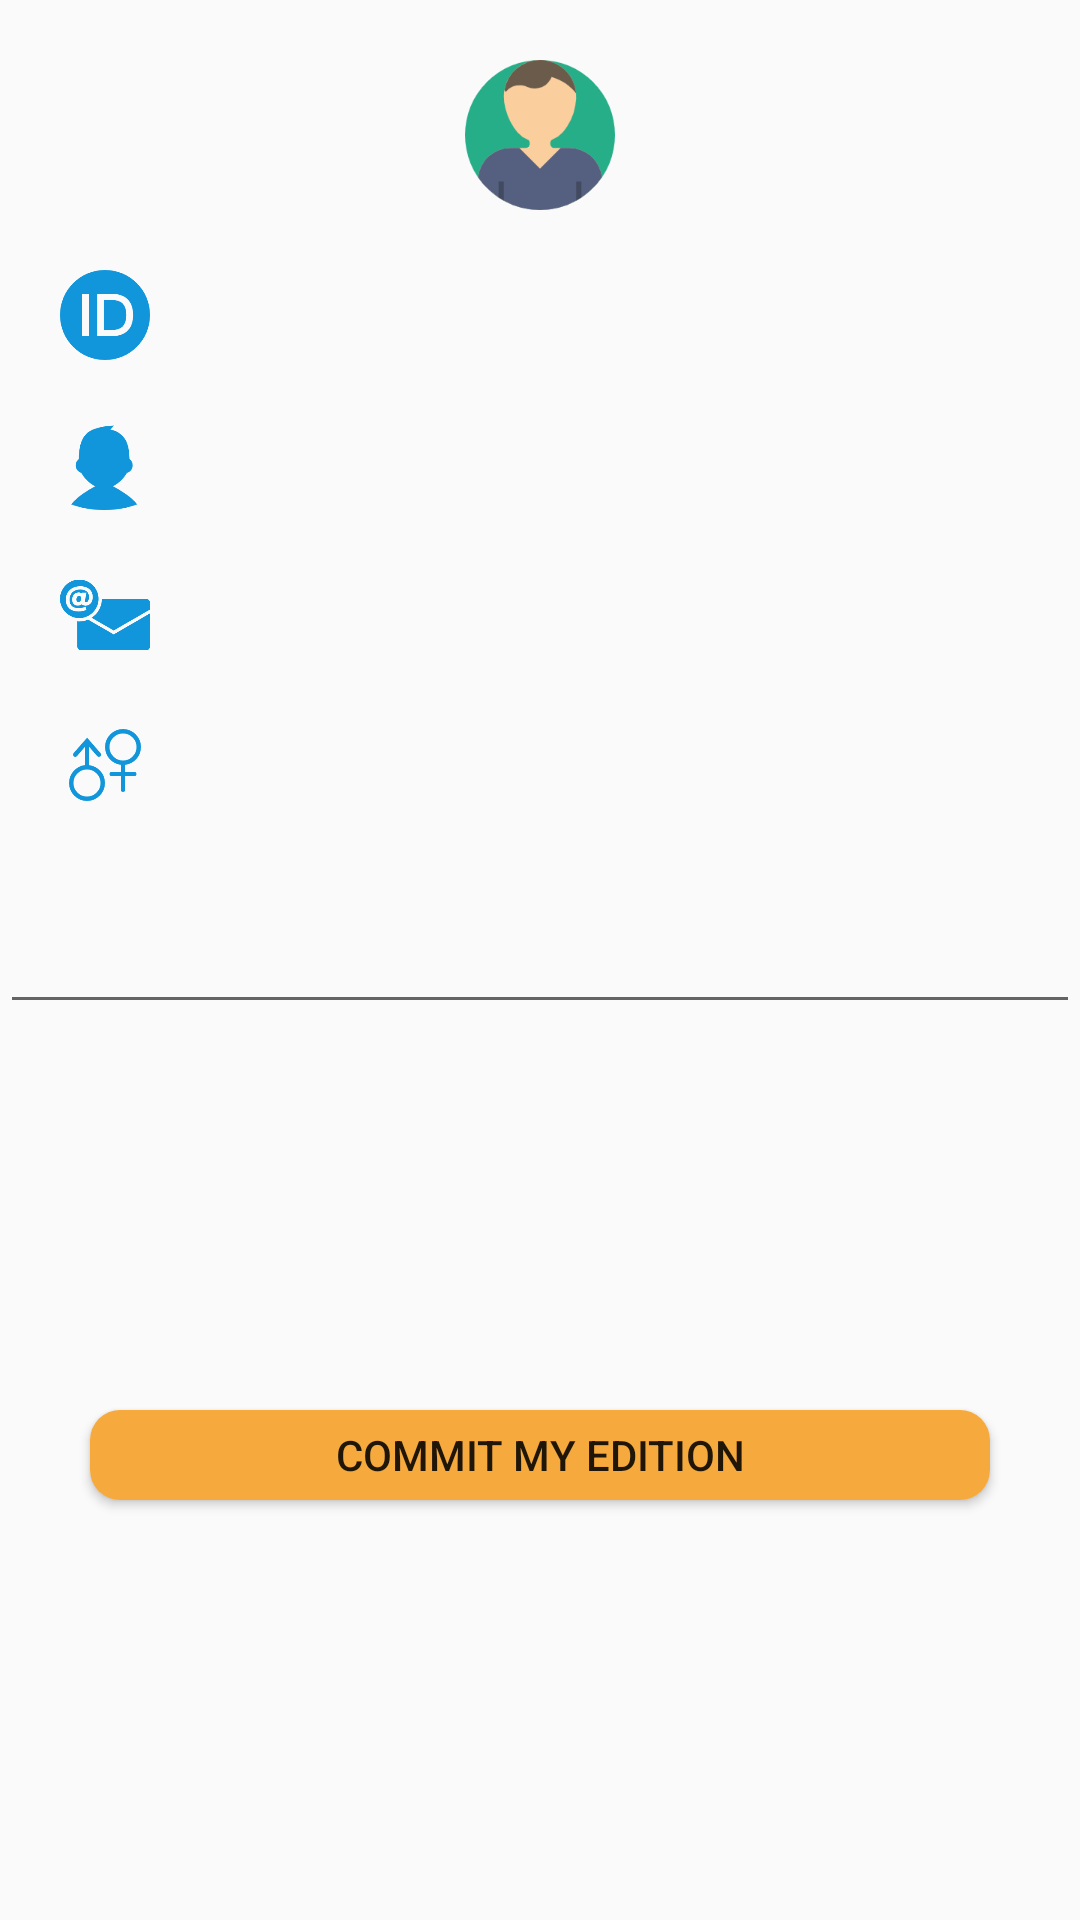

Named icons in this screenshot (1080x1920) and their centers, [x,y]:
email: [105,615]
gender: [105,765]
user personal: [540,135]
